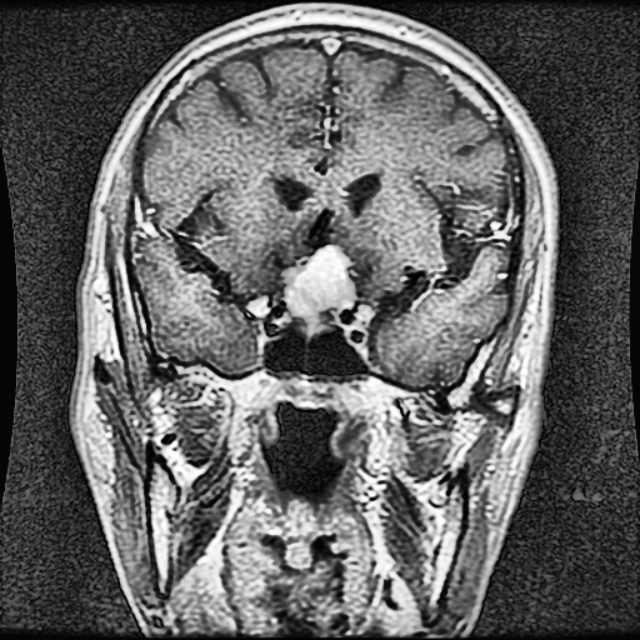Glioma: (284, 247, 354, 332)
